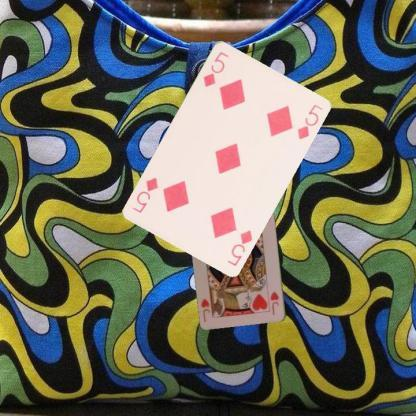5d: (224, 227, 254, 267), (201, 48, 230, 88)
Jh: (268, 289, 280, 316)
